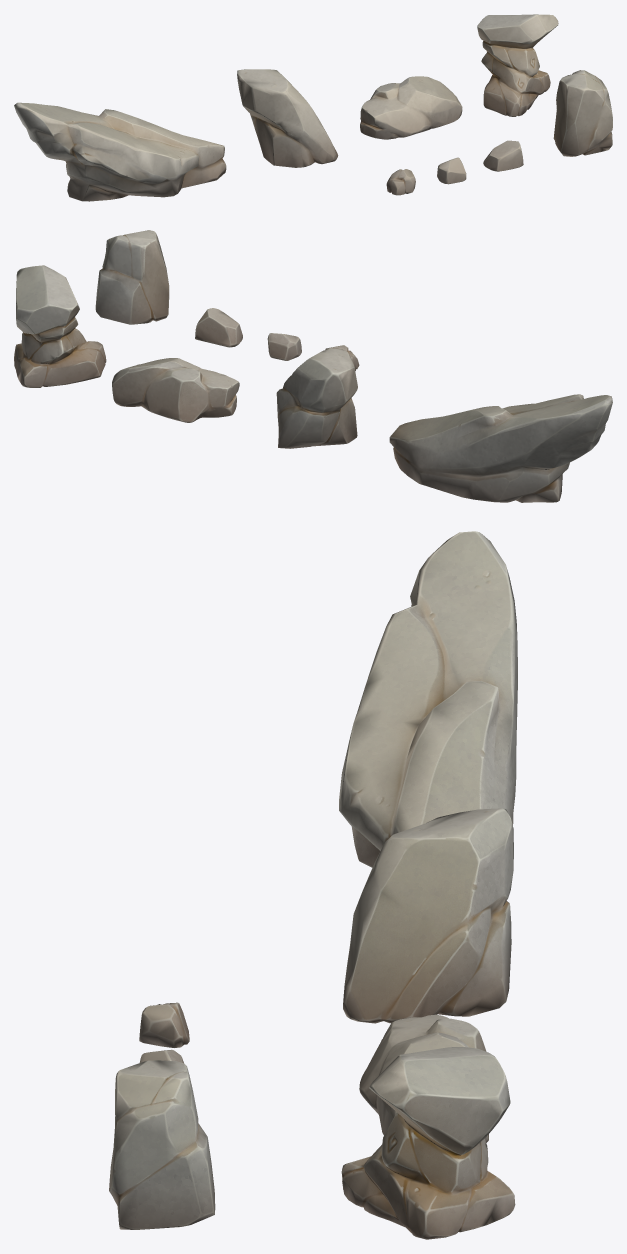
The model's file is roca 3.fbx.
3 renders of one model, top to bottom at view 1: azimuth 30°, elevation 25°; view 2: azimuth 150°, elevation 25°; view 3: azimuth 270°, elevation 25°, orthographic. The views are drawn at different scales.
Visible parts, largest first — view 1: Rock2, Rock7, Rock1, Rock6, Rock8, Rock5, Rock3, Rock4; view 2: Rock2, Rock1, Rock7, Rock6, Rock8, Rock5, Rock4; view 3: Rock2, Rock7, Rock1, Rock8, Rock6, Rock3.
Part boxes in pixels (left/top/right/bottom): Rock2: left=14, top=102, right=226, bottom=201; Rock7: left=237, top=69, right=338, bottom=167; Rock1: left=477, top=14, right=558, bottom=116; Rock6: left=360, top=76, right=462, bottom=139; Rock8: left=553, top=70, right=612, bottom=156; Rock5: left=483, top=140, right=523, bottom=171; Rock3: left=386, top=169, right=415, bottom=195; Rock4: left=437, top=157, right=466, bottom=184; Rock2: left=389, top=394, right=612, bottom=502; Rock1: left=14, top=265, right=106, bottom=387; Rock7: left=276, top=348, right=357, bottom=448; Rock6: left=112, top=358, right=239, bottom=422; Rock8: left=95, top=230, right=169, bottom=324; Rock5: left=195, top=308, right=242, bottom=347; Rock4: left=267, top=333, right=301, bottom=360; Rock2: left=339, top=531, right=517, bottom=867; Rock7: left=343, top=808, right=513, bottom=1023; Rock1: left=341, top=1047, right=515, bottom=1239; Rock8: left=109, top=1060, right=215, bottom=1229; Rock6: left=359, top=1014, right=488, bottom=1142; Rock3: left=139, top=1002, right=189, bottom=1047.
Bounding box in the file's own units: 969 × 188 × 327.
